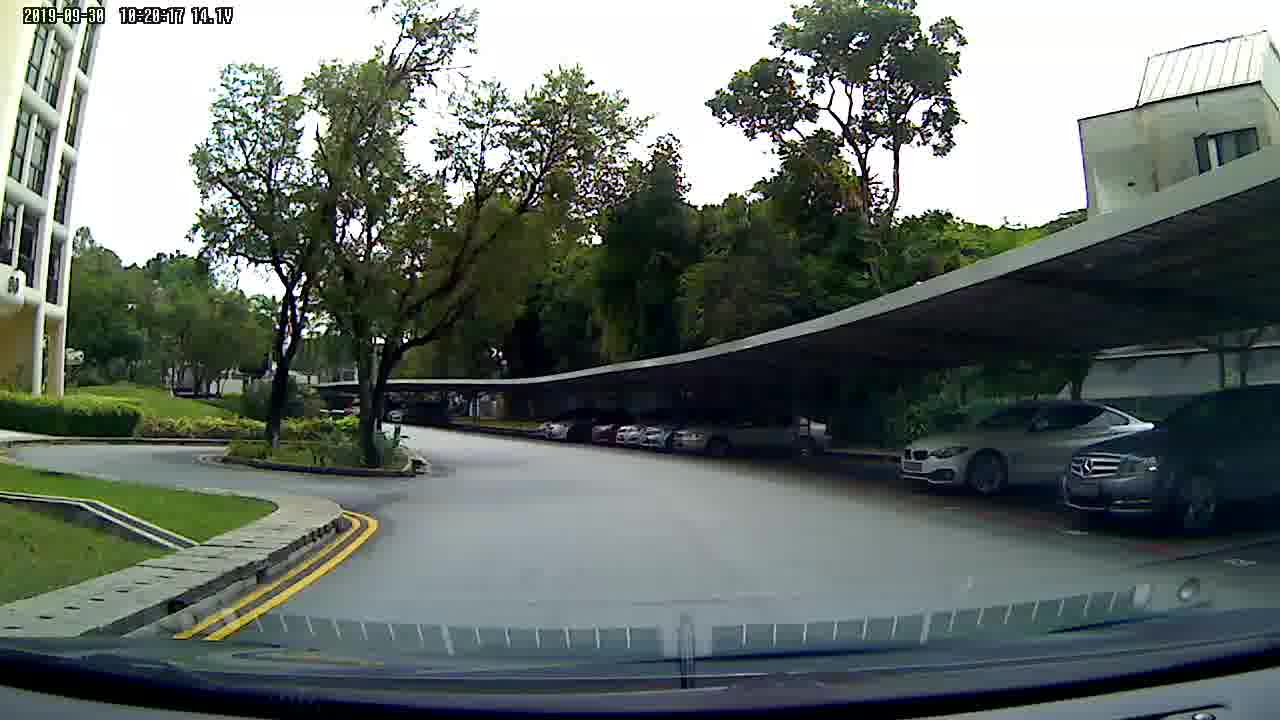car: (1065, 382, 1280, 539), (891, 395, 1059, 501), (539, 408, 834, 464)
